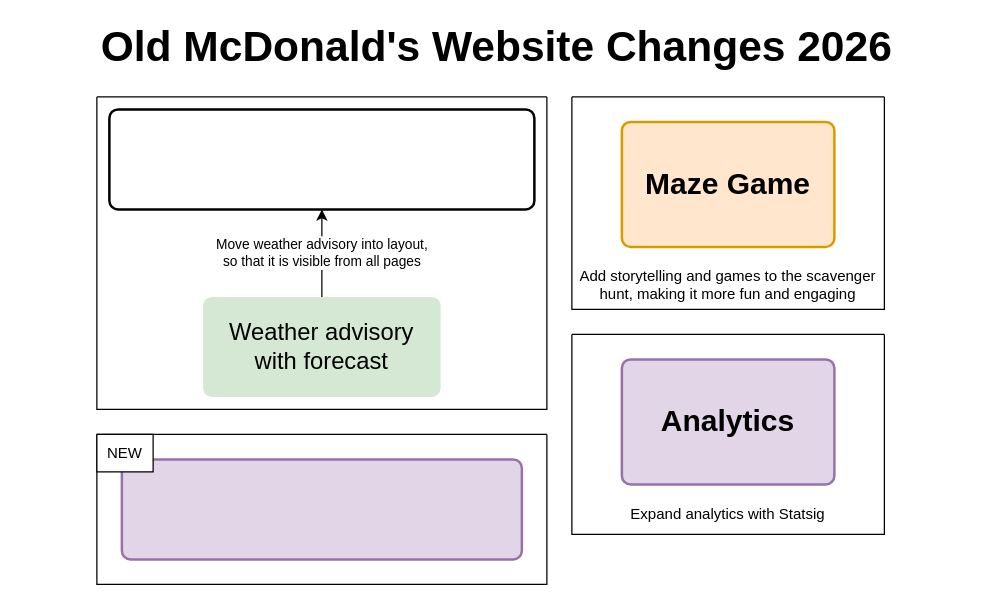
This 993x606 diagram has some shape labels left out. The centre of each missing label's shape, as x and y in pixels:
Bookings Database with reservation lookup for admissions: the point at 321,509
Layout Header, Footer, Cookie Notice: the point at 321,159
